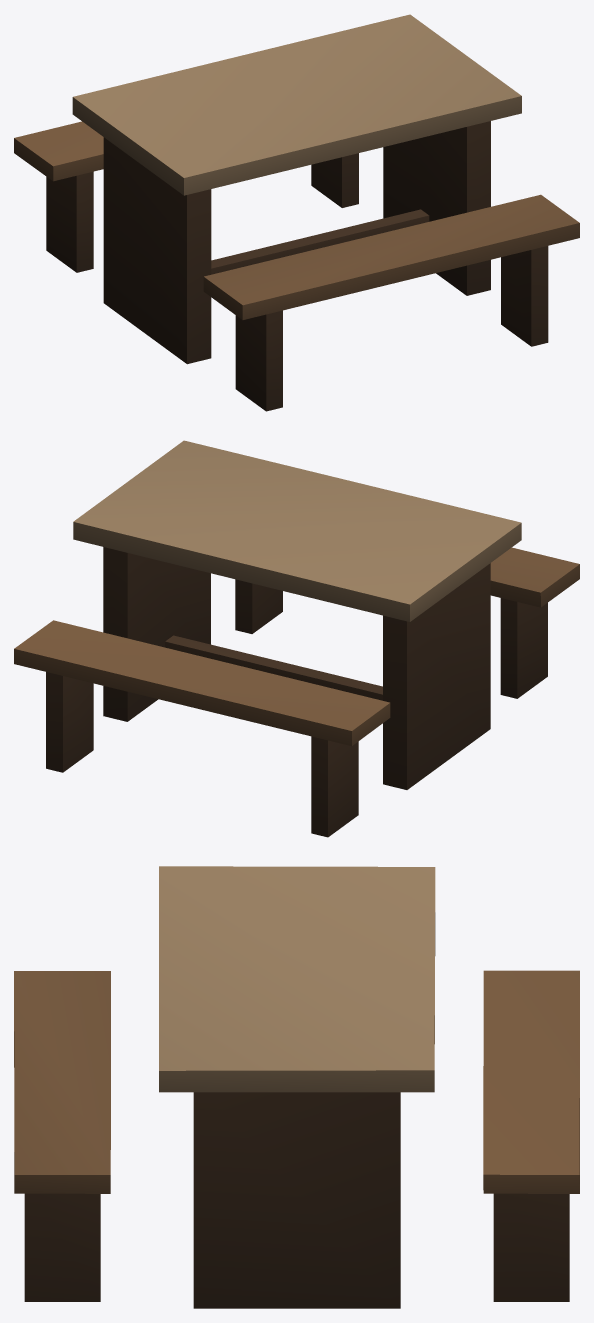
The model's file is ph_int_inn_table.glb.
The picture shows the model from 3 angles, top to bottom: view 1: azimuth 30°, elevation 25°; view 2: azimuth 150°, elevation 25°; view 3: azimuth 270°, elevation 25°; orthographic projection. The views are drawn at different scales.
Parts seen in each view (by area): view 1: ph_int_inn_table; view 2: ph_int_inn_table; view 3: ph_int_inn_table.
Boxes of the visible parts, box(x1,y1,x2,y2) form: ph_int_inn_table: box(14, 14, 579, 411); ph_int_inn_table: box(14, 440, 579, 837); ph_int_inn_table: box(14, 866, 579, 1308).
Size of the model in its own units: 1.4 by 0.7946 by 1.64.
